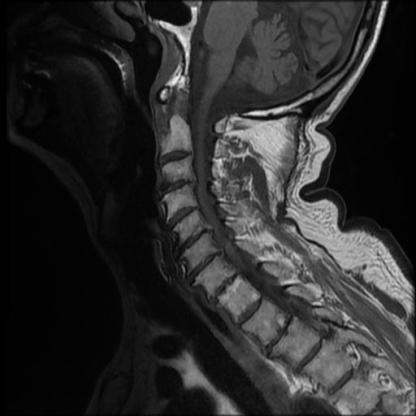Disc Bulgerotation: (183, 253, 228, 279), (172, 231, 212, 252), (163, 208, 200, 225), (158, 149, 193, 166), (159, 178, 195, 193)
Disc Protrusionrotation: (158, 149, 193, 166)
